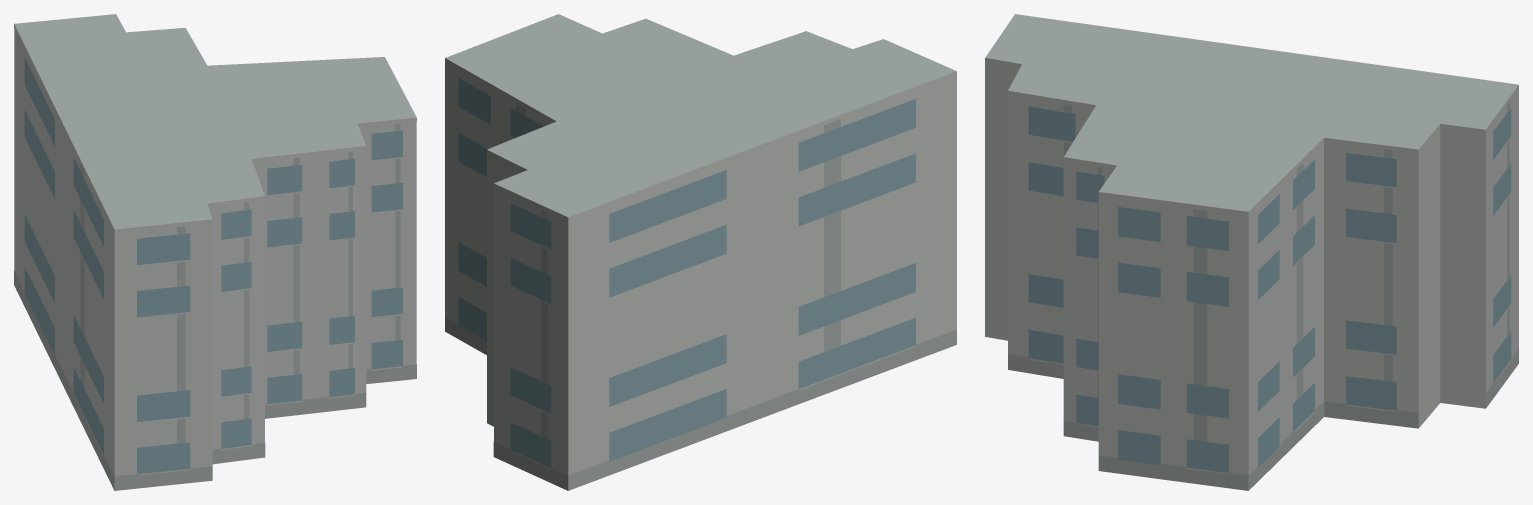
File: survey-upis-32627727.glb
The picture shows the model from 3 angles, left to right: view 1: azimuth 30°, elevation 25°; view 2: azimuth 150°, elevation 25°; view 3: azimuth 270°, elevation 25°; orthographic projection. The views are drawn at different scales.
Parts seen in each view (by area): view 1: survey-upis-32627727.tmp; view 2: survey-upis-32627727.tmp; view 3: survey-upis-32627727.tmp.
Part boxes in pixels (<box>): survey-upis-32627727.tmp: <box>14,14,416,490</box>; survey-upis-32627727.tmp: <box>445,14,956,490</box>; survey-upis-32627727.tmp: <box>985,14,1518,490</box>.
Bounding box in the file's own units: 24.48 × 16.1 × 27.91.
